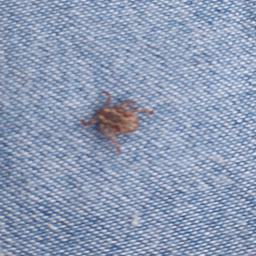Dermacentor variabilis: (79, 89, 157, 155)
